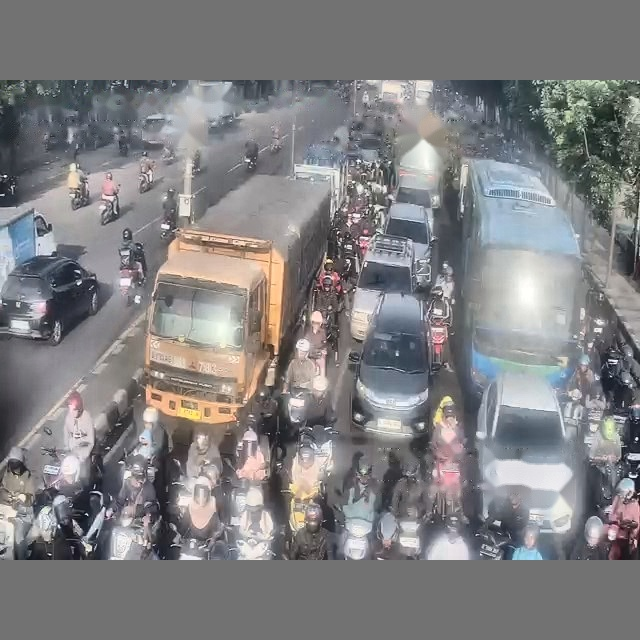Bis: (458, 159, 585, 397)
Mobil: (476, 371, 578, 534), (349, 293, 431, 438), (0, 256, 98, 344), (350, 235, 417, 340), (384, 203, 437, 286)
Motor: (432, 460, 461, 520), (119, 247, 142, 305), (398, 508, 423, 559), (476, 527, 512, 559), (429, 316, 448, 372), (98, 198, 117, 225), (160, 210, 176, 239), (69, 187, 89, 210), (138, 172, 152, 193), (244, 155, 257, 172)
Truk: (144, 175, 330, 428), (0, 207, 56, 289), (293, 161, 347, 219)
